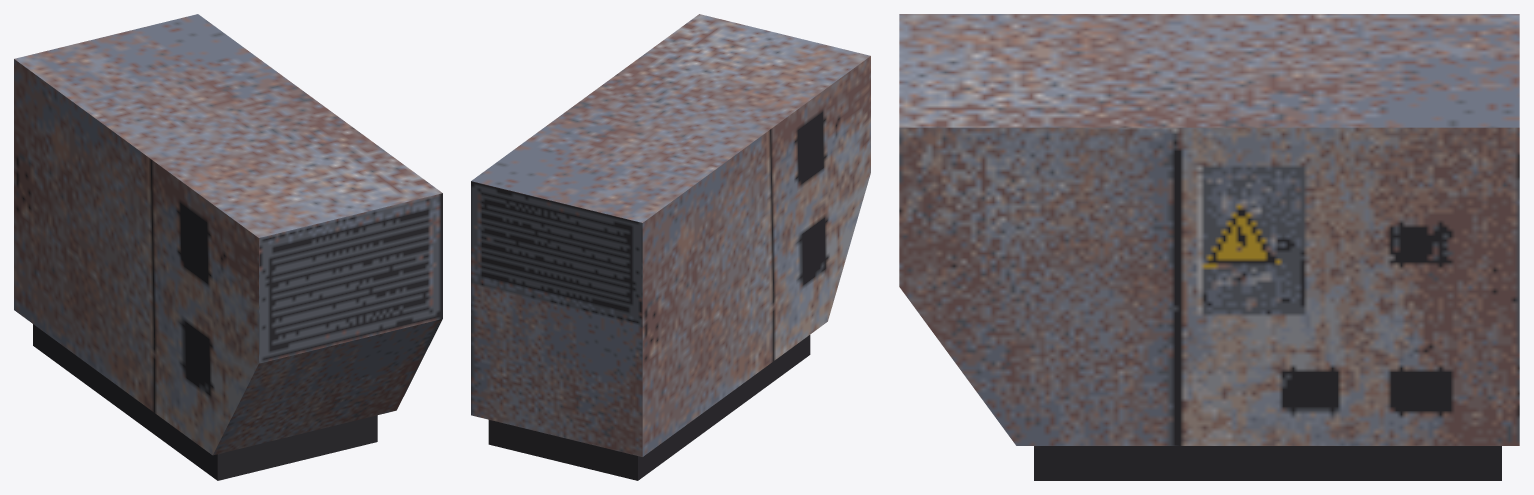
File: Generator.obj
3 renders of one model, left to right at view 1: azimuth 30°, elevation 25°; view 2: azimuth 150°, elevation 25°; view 3: azimuth 270°, elevation 25°, orthographic. The views are drawn at different scales.
Parts seen in each view (by area): view 1: Generator; view 2: Generator; view 3: Generator.
Part boxes in pixels (x1,y1,x2,y2): Generator: (14, 14, 442, 480); Generator: (471, 14, 870, 480); Generator: (899, 14, 1519, 480).
Bounding box in the file's own units: 1.13 × 1.67 × 2.61.
1 material, 1 textured.
